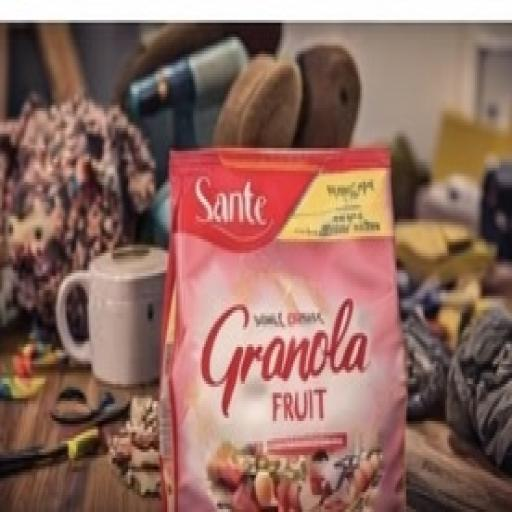granola: (142, 120, 428, 507)
